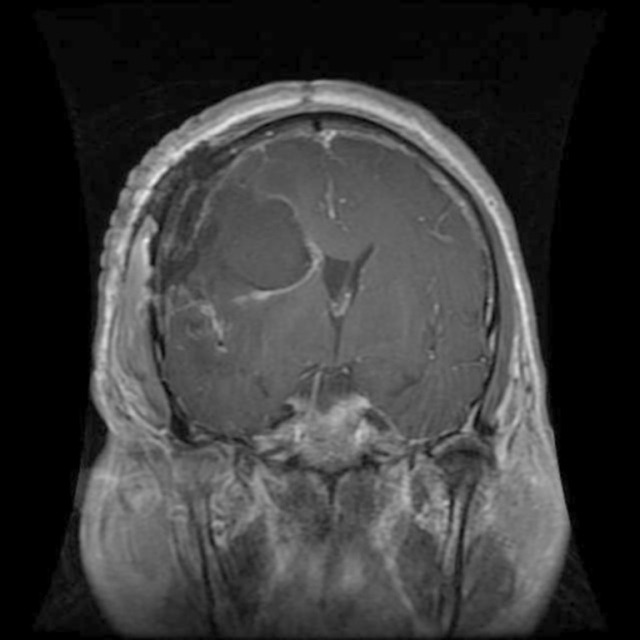pituitary tumor: (214, 185, 320, 293)
